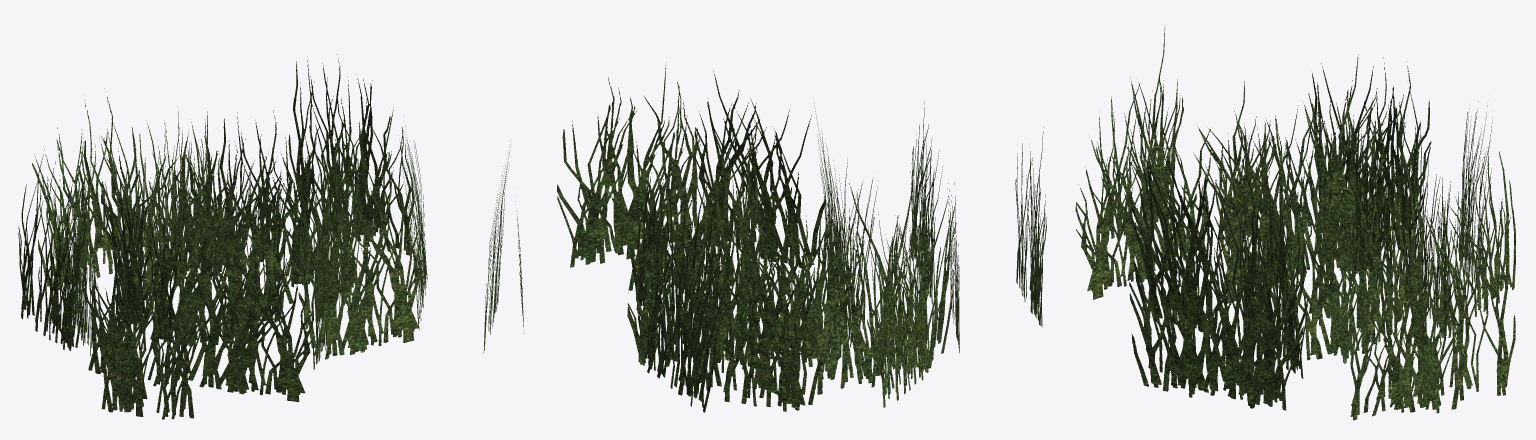
File: grass_3d_03.glb
3 views of the same model, side by side, from view 1: azimuth 30°, elevation 25°; view 2: azimuth 150°, elevation 25°; view 3: azimuth 270°, elevation 25° (orthographic). The views are drawn at different scales.
Parts seen in each view (by area): view 1: grass_cards; view 2: grass_cards; view 3: grass_cards.
Part boxes in pixels (x1,y1,x2,y2): grass_cards: [18, 54, 427, 419]; grass_cards: [483, 62, 1046, 412]; grass_cards: [1075, 25, 1515, 420].
Size of the model in its own units: 1.11 by 0.5631 by 0.9892.
1 material, 1 textured.
